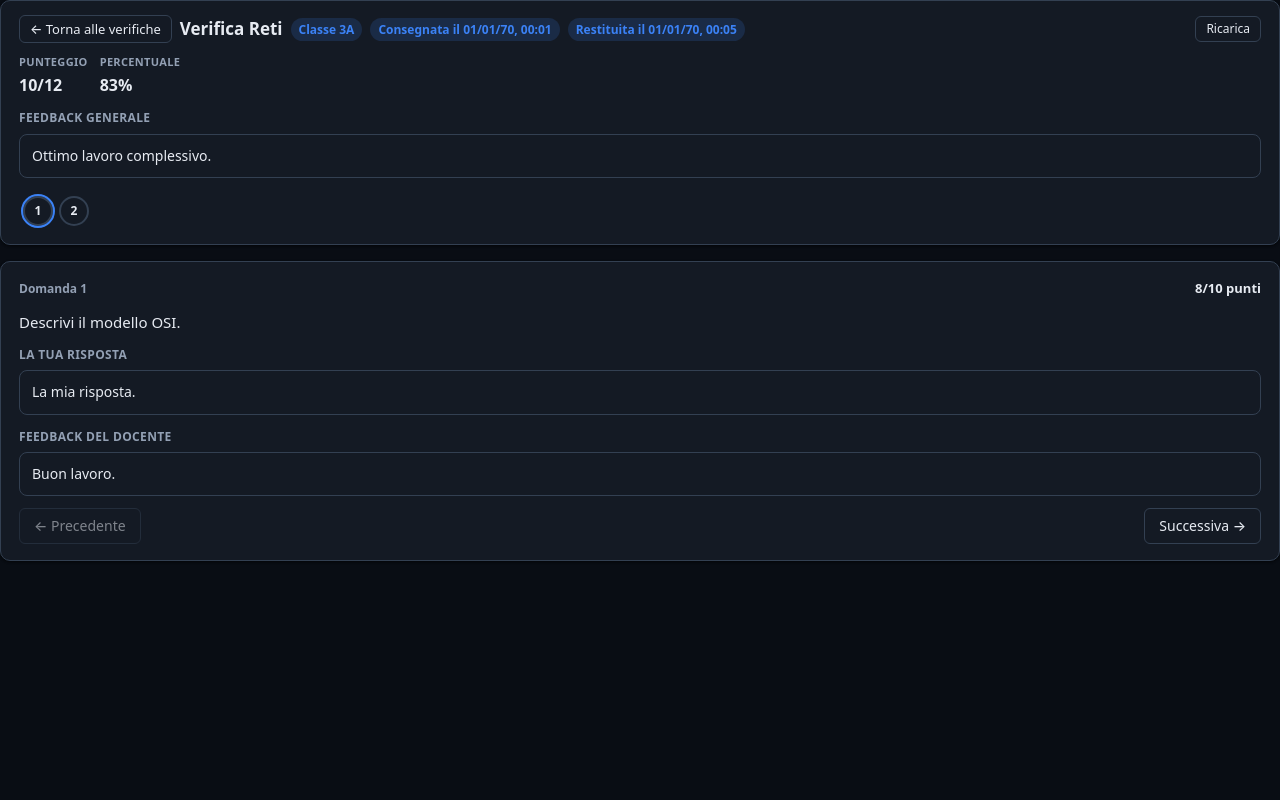
Test case: StudentCorrectionView — question navigation and content › switches question via the navigator
Click the button named "Vai alla domanda 2": (74,211) [59,196,89,226]
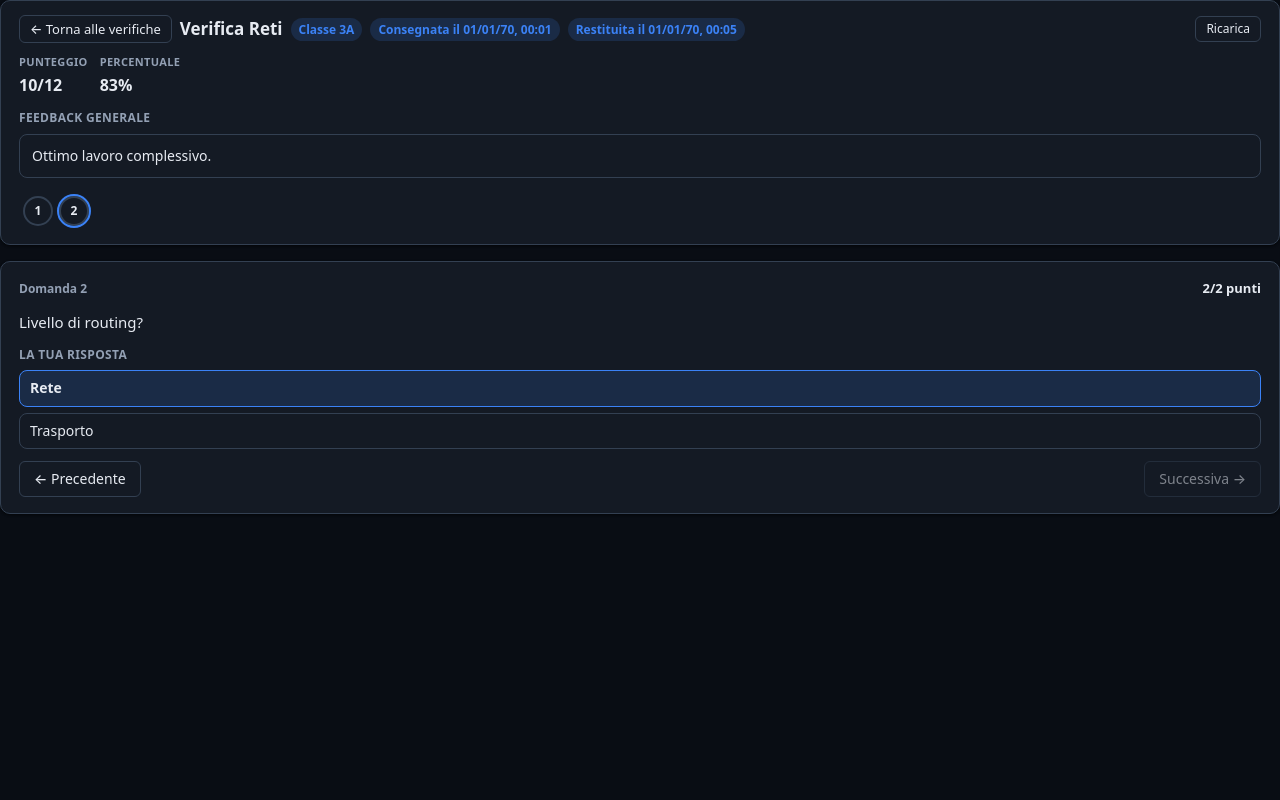
Expected: the text "Livello di routing?" is shown, [19,312,143,332]
Expected: the text "Rete" is shown, [19,370,1261,407]
